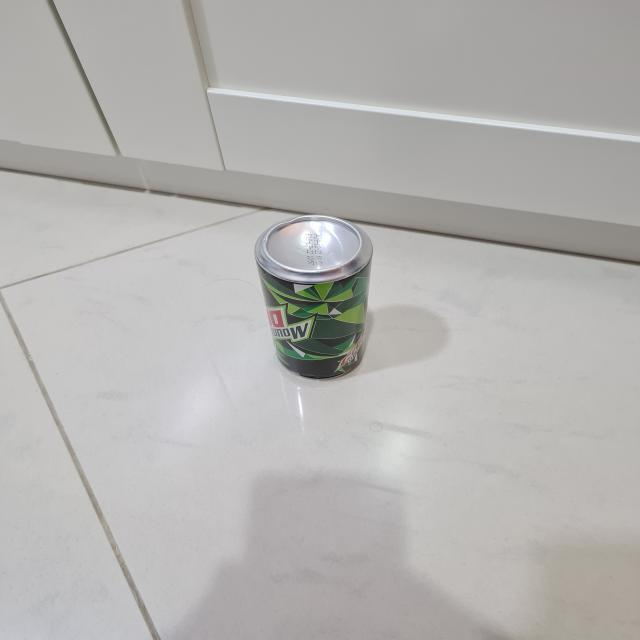can: (253, 214, 377, 383)
